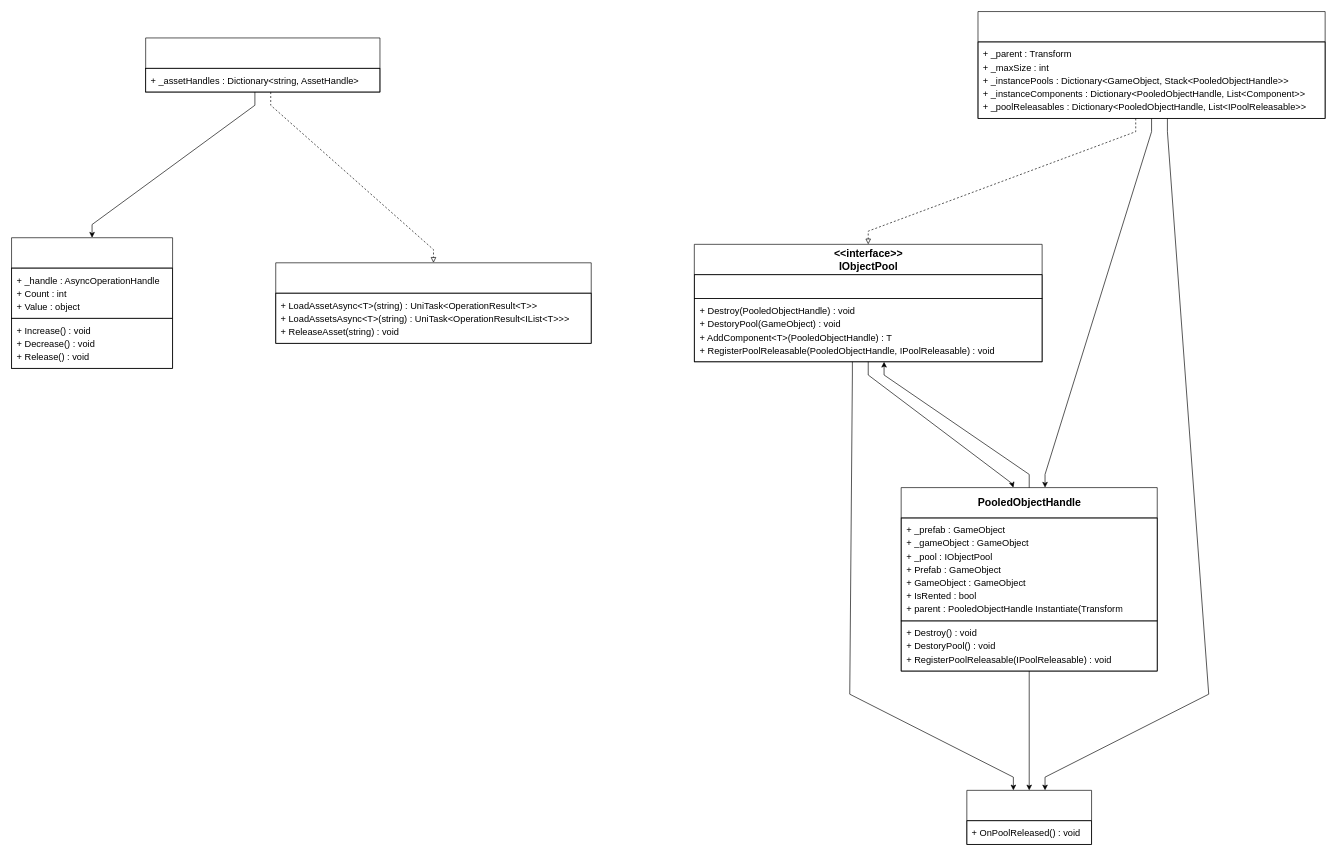
Some shapes in this 1337 by 856 pixel diagram are drawn without their labels. Here are the shapes that lost their labels. From the top down, the box of each, then its label:
(145, 37, 380, 92): LocalAddressableAssetLoader
(977, 11, 1325, 118): ObjectPool
(11, 237, 173, 368): AssetHandle
(275, 262, 591, 343): <<interface>> IAsyncAssetLoader
(694, 274, 1042, 298): + parent : PooledObjectHandle Instantiate(GameObject prefab, Transform
(966, 790, 1092, 844): <<interface>> IPoolReleasable
